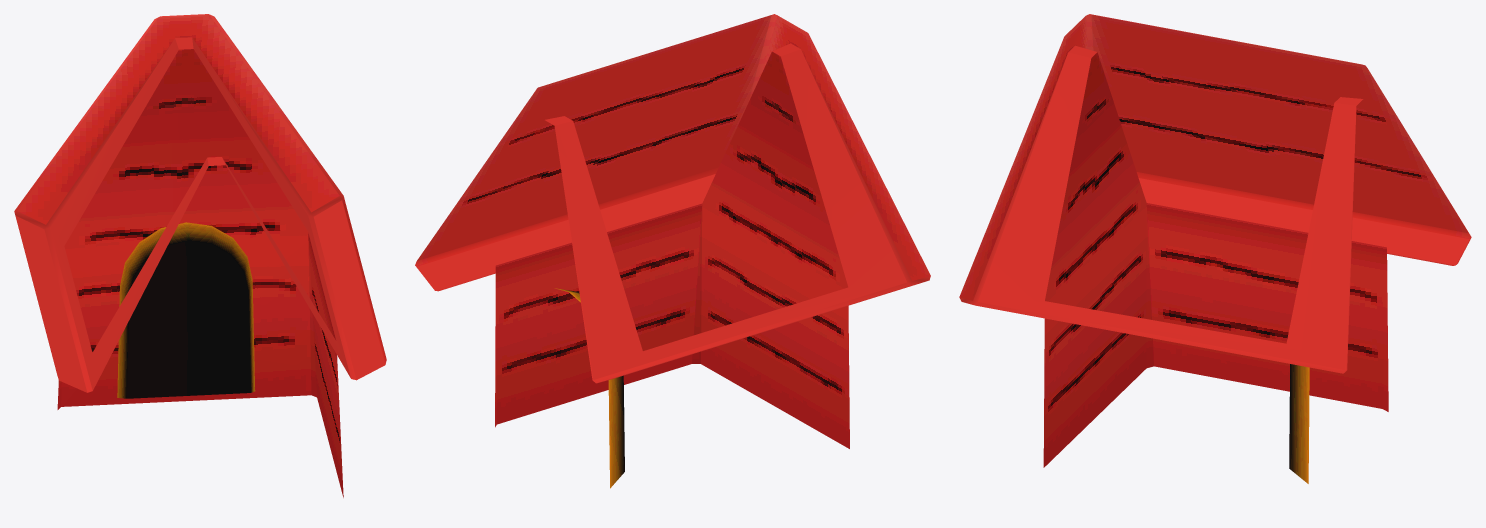
The model's file is ps2_save-icons_snoopyvstheredbaron.glb.
3 views of the same model, side by side, from view 1: azimuth 30°, elevation 25°; view 2: azimuth 150°, elevation 25°; view 3: azimuth 270°, elevation 25° (orthographic). The views are drawn at different scales.
Visible parts, largest first — view 1: icon.dat; view 2: icon.dat; view 3: icon.dat.
Part boxes in pixels (x1=…): icon.dat: x1=14, y1=14, x2=386, y2=497; icon.dat: x1=415, y1=14, x2=930, y2=488; icon.dat: x1=959, y1=14, x2=1471, y2=483.
Bounding box in the file's own units: 4.45 × 4.04 × 4.79.
Materials: 1 (1 with a texture image).
